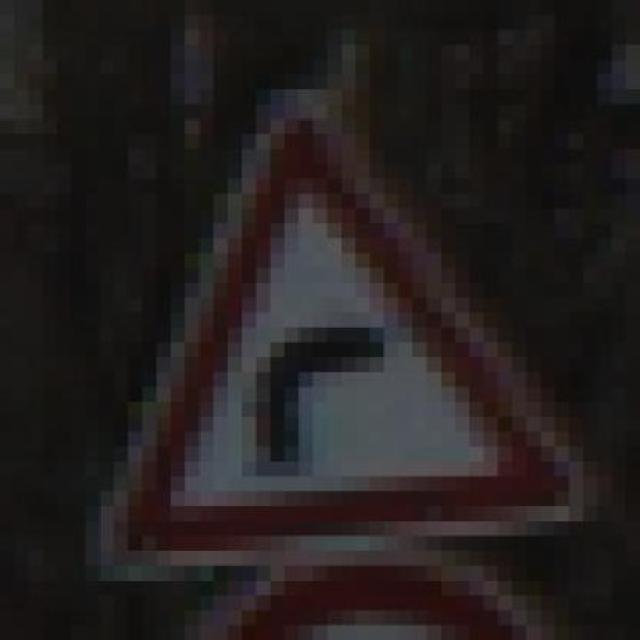Dangerous Rright Curve Ahead: (71, 74, 612, 580)
